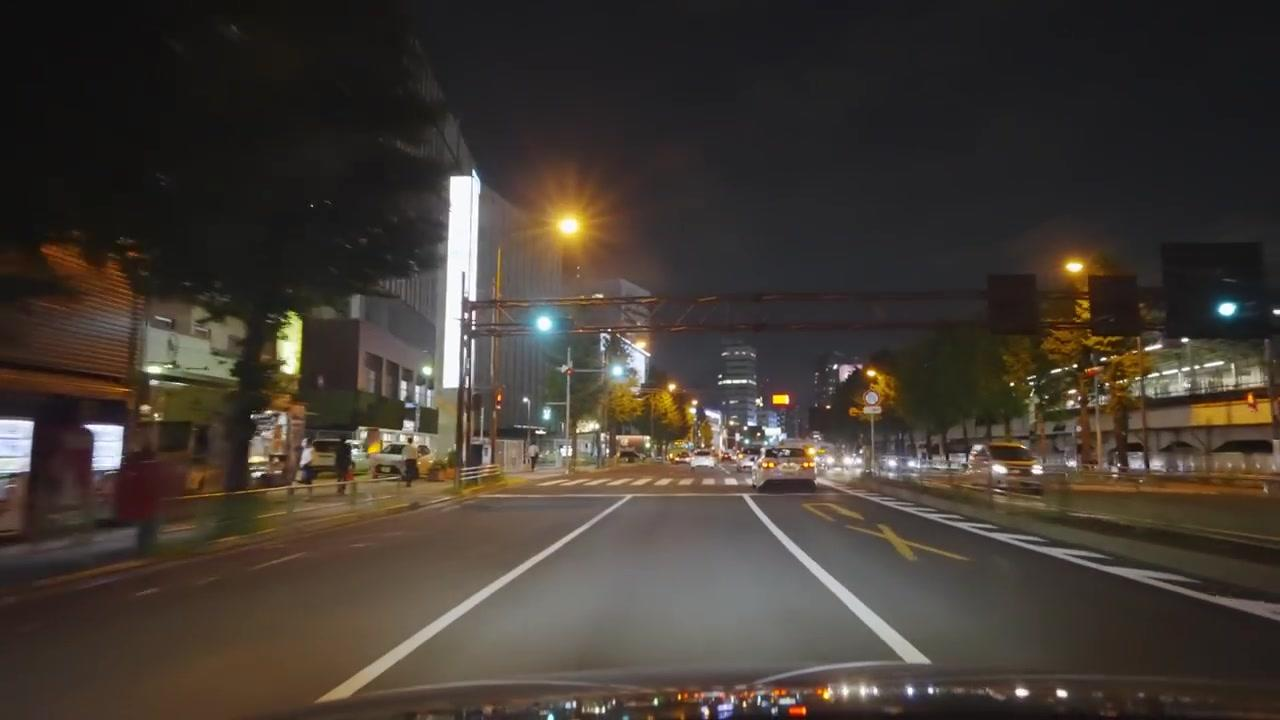bus: (1085, 341, 1279, 475)
car: (968, 440, 1043, 483), (753, 444, 817, 493), (724, 460, 756, 484), (878, 454, 917, 473), (668, 451, 693, 462)
person: (298, 438, 317, 500), (335, 440, 355, 496), (401, 443, 419, 485)
traffic light: (533, 309, 555, 334), (495, 388, 505, 411)
